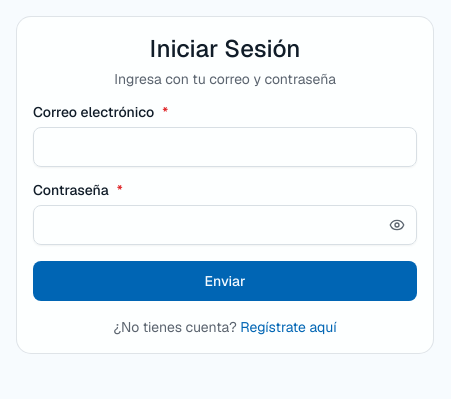
Test: LoginPage › rejects an invalid email format
In the field labelled "Correo electrónico *": (225, 147) [33,127,417,167], type "not-an-email"
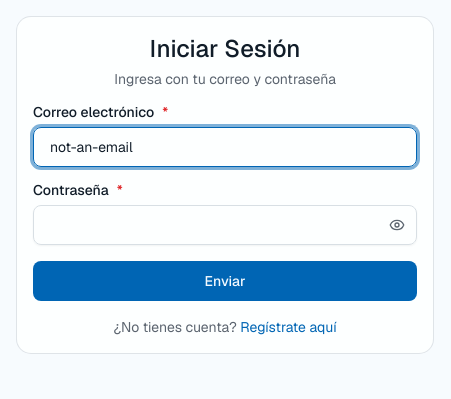
In the password field labelled "Contraseña *": (225, 225) [33,205,417,245], type "supersecret"
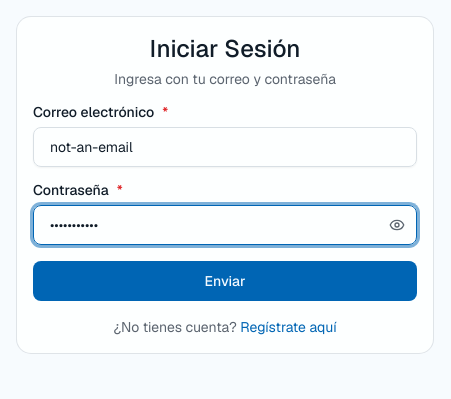
Click the button "Enviar": (225, 281) [33,261,417,301]
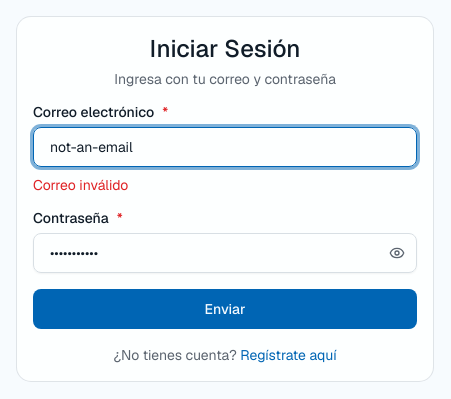
Expected: the text "Correo inválido" is shown, [33,176,128,194]
